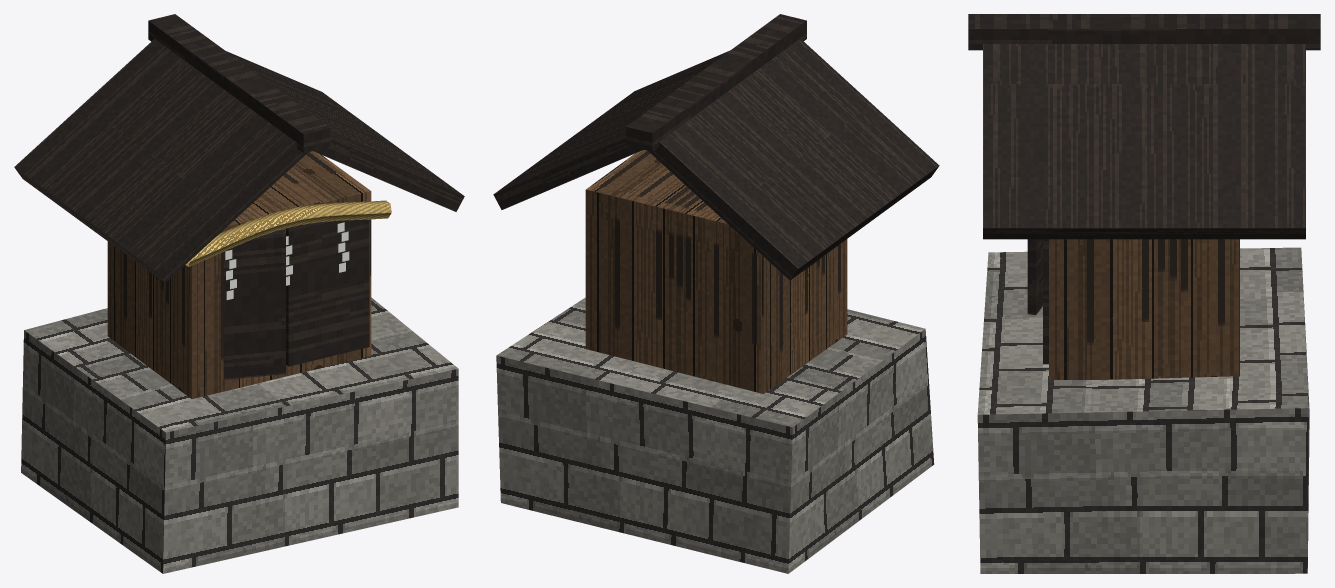
Rendered from prop_hokora.glb.
3 views of the same model, side by side, from view 1: azimuth 30°, elevation 25°; view 2: azimuth 150°, elevation 25°; view 3: azimuth 270°, elevation 25° (orthographic). The views are drawn at different scales.
Visible parts, largest first — view 1: prop_hokora; view 2: prop_hokora; view 3: prop_hokora.
Part boxes in pixels (x1,y1,x2,y2): prop_hokora: (14,14,464,573); prop_hokora: (493,14,939,573); prop_hokora: (968,14,1320,573).
Bounding box in the file's own units: 1.37 × 1.77 × 1.2.
5 materials, 5 textured.
